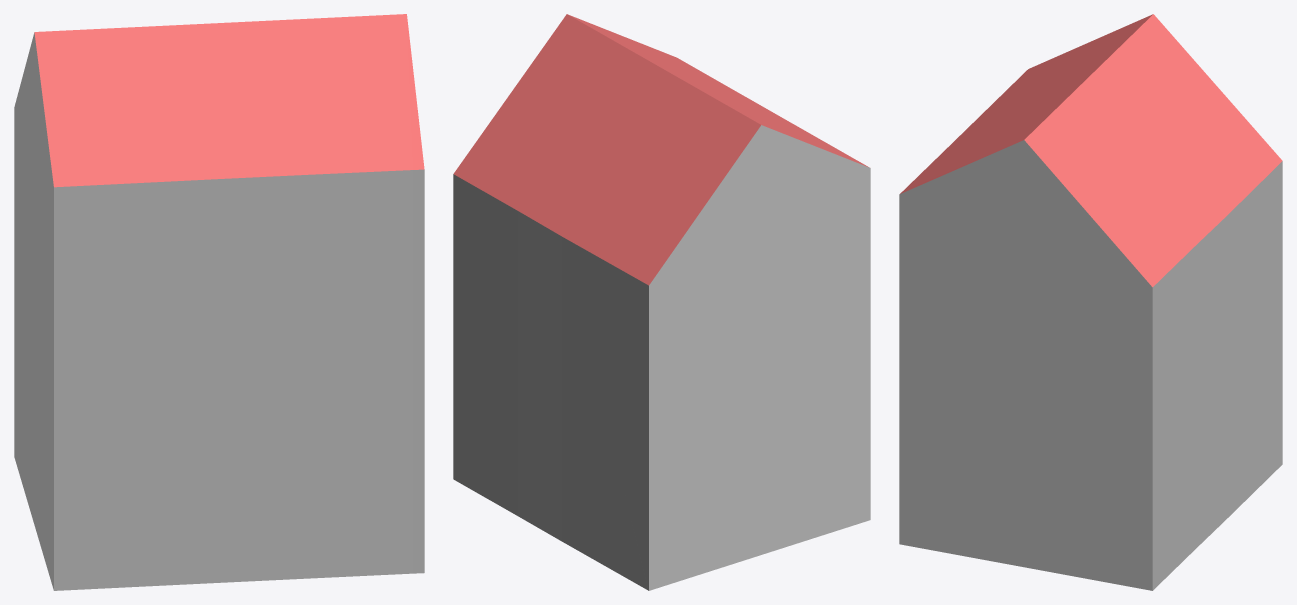
The model's file is DEBY_LOD2_4907135.gltf.
3 views of the same model, side by side, from view 1: azimuth 30°, elevation 25°; view 2: azimuth 150°, elevation 25°; view 3: azimuth 270°, elevation 25° (orthographic). The views are drawn at different scales.
Visible parts, largest first — view 1: Z_UP; view 2: Z_UP; view 3: Z_UP.
Boxes of the visible parts, <box> form: Z_UP: <box>14,14,424,590</box>; Z_UP: <box>453,14,870,590</box>; Z_UP: <box>899,14,1282,590</box>.
Bounding box in the file's own units: 18.34 × 21.25 × 17.28.
